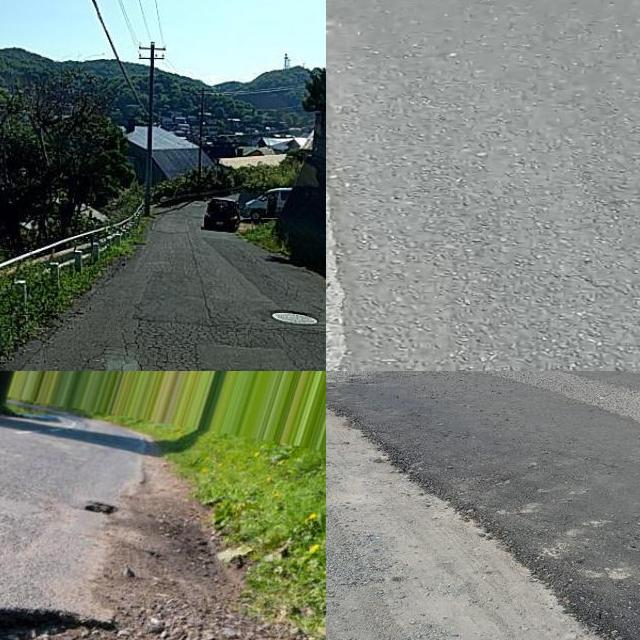Retak Buaya: (115, 325, 326, 371)
Sambungan: (326, 371, 640, 640)
